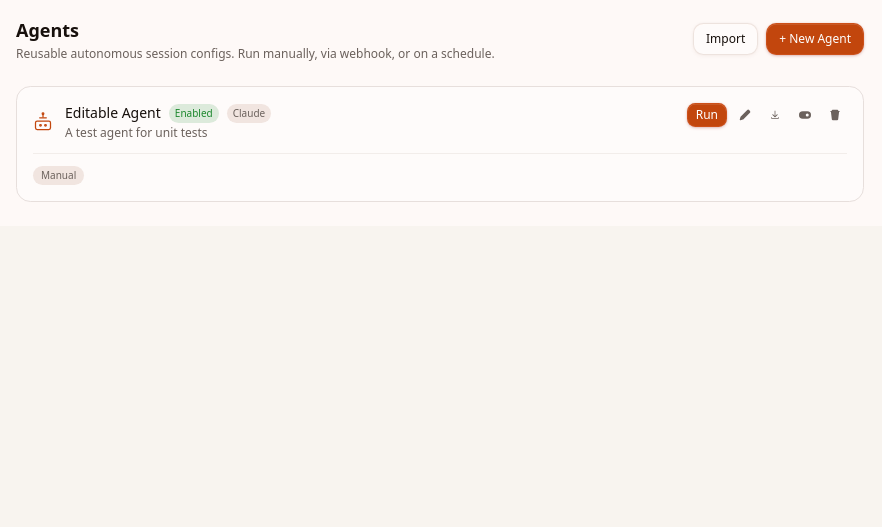
Test: AgentsPage › clicking Edit on an agent card opens the editor in edit mode
Expected: the heading "Editable Agent" is shown, [65,103,161,123]
Click the button titled "Edit": [745, 115] box [733,103,757,127]
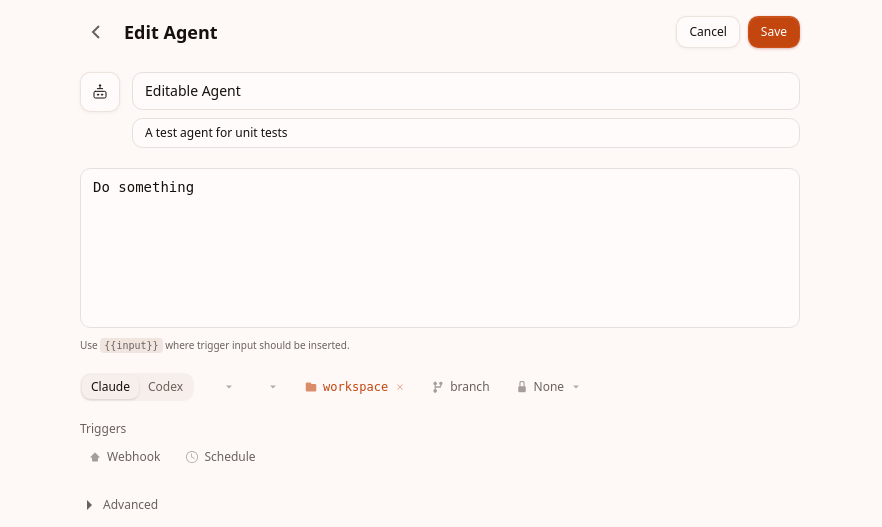
Expected: the heading "Edit Agent" is shown, [124,18,218,46]
Expected: the button "Save" is shown, [748,16,800,48]
Expected: the 1st field showing "Editable Agent" is shown, [132,72,800,110]
